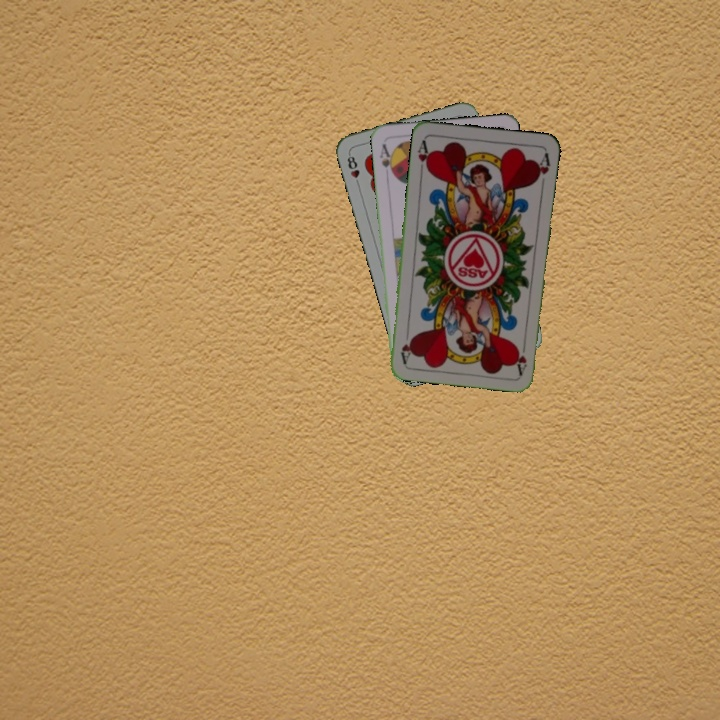H8: (343, 149, 363, 189)
HA: (414, 136, 433, 176), (512, 336, 530, 377)
SA: (376, 140, 397, 178)
